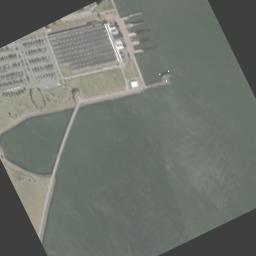boat: (159, 70, 173, 84), (164, 162, 170, 169)
